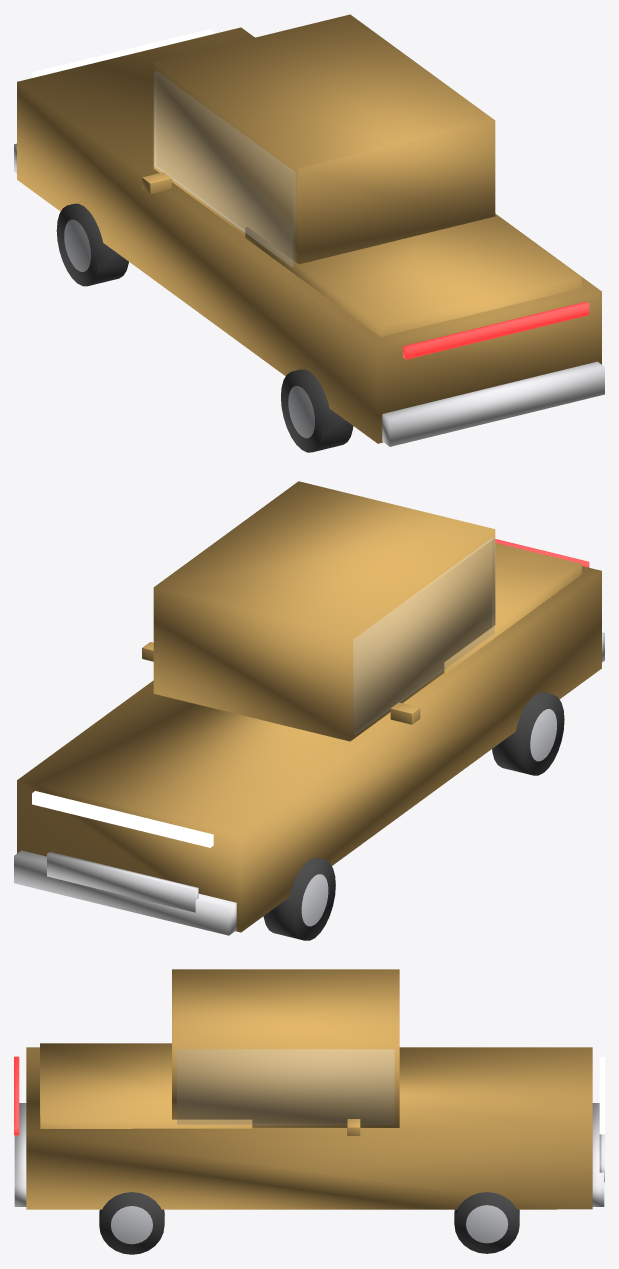
Rendered from vehicle.glb.
3 renders of one model, top to bottom at view 1: azimuth 30°, elevation 25°; view 2: azimuth 150°, elevation 25°; view 3: azimuth 270°, elevation 25°, orthographic. The views are drawn at different scales.
Parts seen in each view (by area): view 1: BODY_Main, BODY_Roof, BODY_Bed, GLASS_Greenhouse, BODY_Bumpers_Rear, WHEEL_RR_Tire, LIGHT_Taillights, WHEEL_FR_Tire, LIGHT_Headlights, WHEEL_RR_Alloy, WHEEL_FR_Alloy; view 2: BODY_Main, BODY_Roof, GLASS_Greenhouse, BODY_Bed, BODY_Bumpers_Front, BODY_Grille, WHEEL_RR_Tire, WHEEL_FR_Tire, LIGHT_Headlights, WHEEL_FR_Alloy, WHEEL_RR_Alloy; view 3: BODY_Main, BODY_Roof, GLASS_Greenhouse, BODY_Bed, WHEEL_RL_Tire, WHEEL_FL_Tire, WHEEL_FL_Alloy, WHEEL_RL_Alloy, BODY_Bumpers_Rear, BODY_Bumpers_Front, LIGHT_Taillights, LIGHT_Headlights.
Boxes of the visible parts, x1,y1,x2,y2 form: BODY_Main: [17, 27, 601, 443]; BODY_Roof: [153, 14, 495, 264]; BODY_Bed: [245, 214, 581, 336]; GLASS_Greenhouse: [154, 71, 295, 267]; BODY_Bumpers_Rear: [382, 361, 604, 446]; WHEEL_RR_Tire: [281, 369, 353, 452]; LIGHT_Taillights: [403, 301, 589, 359]; WHEEL_FR_Tire: [56, 203, 128, 286]; LIGHT_Headlights: [32, 29, 213, 77]; WHEEL_RR_Alloy: [288, 386, 314, 438]; WHEEL_FR_Alloy: [64, 219, 90, 271]; BODY_Main: [17, 566, 601, 932]; BODY_Roof: [153, 481, 495, 741]; GLASS_Greenhouse: [353, 538, 494, 734]; BODY_Bed: [444, 543, 581, 673]; BODY_Bumpers_Front: [14, 850, 236, 935]; BODY_Grille: [47, 851, 198, 912]; WHEEL_RR_Tire: [492, 692, 564, 775]; WHEEL_FR_Tire: [263, 858, 335, 940]; LIGHT_Headlights: [32, 791, 213, 847]; WHEEL_FR_Alloy: [301, 874, 328, 926]; WHEEL_RR_Alloy: [530, 709, 556, 761]; BODY_Main: [26, 1047, 592, 1209]; BODY_Roof: [172, 969, 399, 1127]; GLASS_Greenhouse: [177, 1049, 394, 1124]; BODY_Bed: [40, 1043, 252, 1128]; WHEEL_RL_Tire: [99, 1192, 164, 1254]; WHEEL_FL_Tire: [454, 1192, 519, 1253]; WHEEL_FL_Alloy: [466, 1205, 508, 1243]; WHEEL_RL_Alloy: [111, 1206, 152, 1244]; BODY_Bumpers_Rear: [14, 1103, 26, 1206]; BODY_Bumpers_Front: [592, 1103, 604, 1206]; LIGHT_Taillights: [14, 1056, 19, 1135]; LIGHT_Headlights: [599, 1057, 604, 1134].
Bounding box in the file's own units: 2.24 × 2.04 × 5.41.
